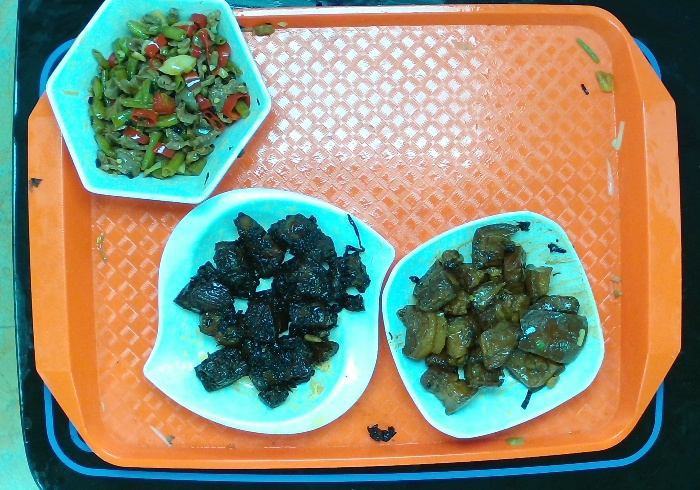RJxy-Liu_Jiao_Wan: (43, 1, 275, 209)
RJxy-Shuang_Jiao_Pan: (138, 185, 398, 439)
RJxy-Si_Fang_Wan: (376, 207, 608, 442)
